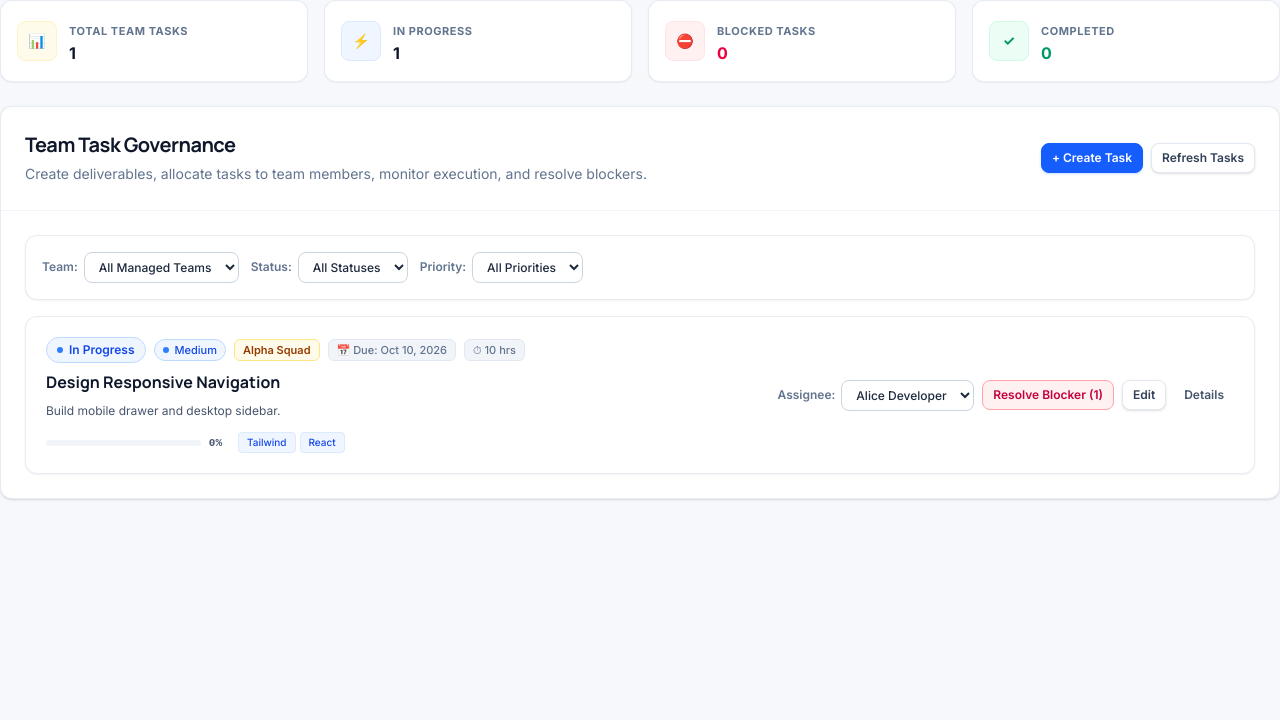
Test: ManagerTaskBoard Component › manager can edit task metadata with pre-populated form and sends PATCH request
This screenshot has width=1280, height=720.
Click the button "Edit" at x=1144, y=395, box [1122,380,1166,410]
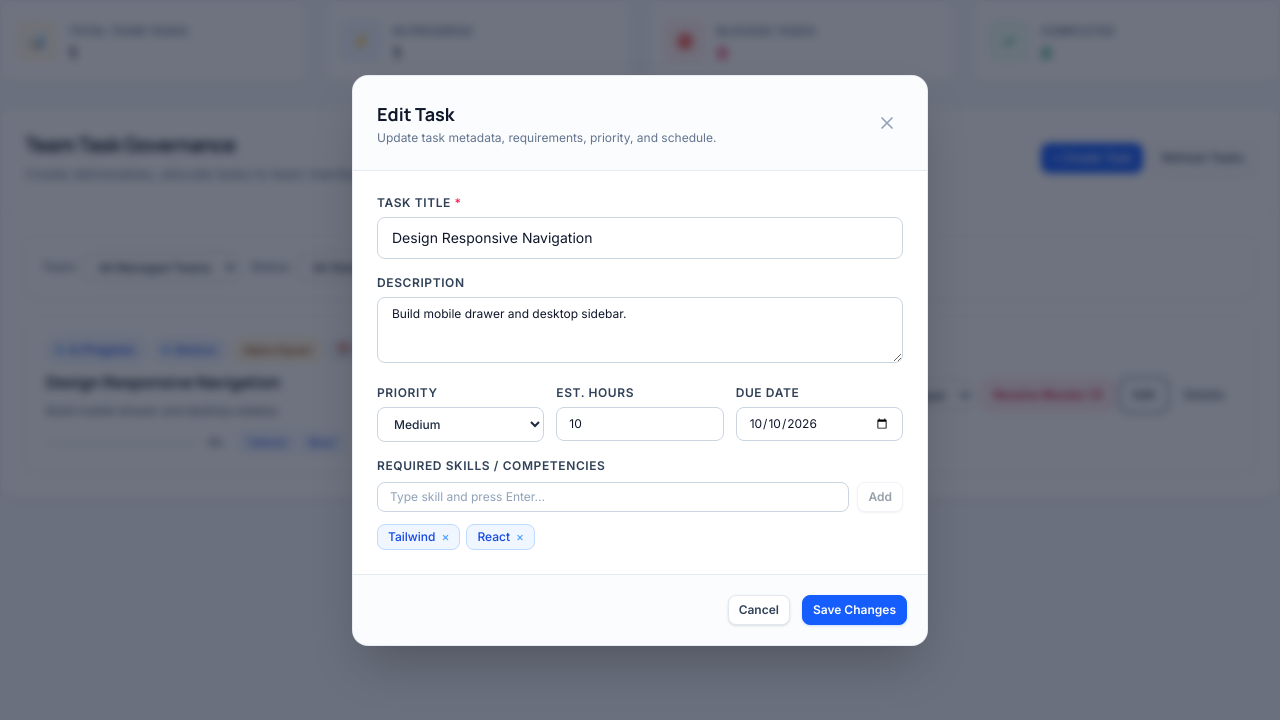
Check: the heading "Edit Task" is shown, box [377,102,454,126]
Check: the field labelled "Task Title *" holds "Design Responsive Navigation"
Note: Modify title and priority inside modal
Replace the text in the field labelled "Task Title *" with "Design Premium Responsive Navigation" at x=640, y=238, box [377,216,903,258]
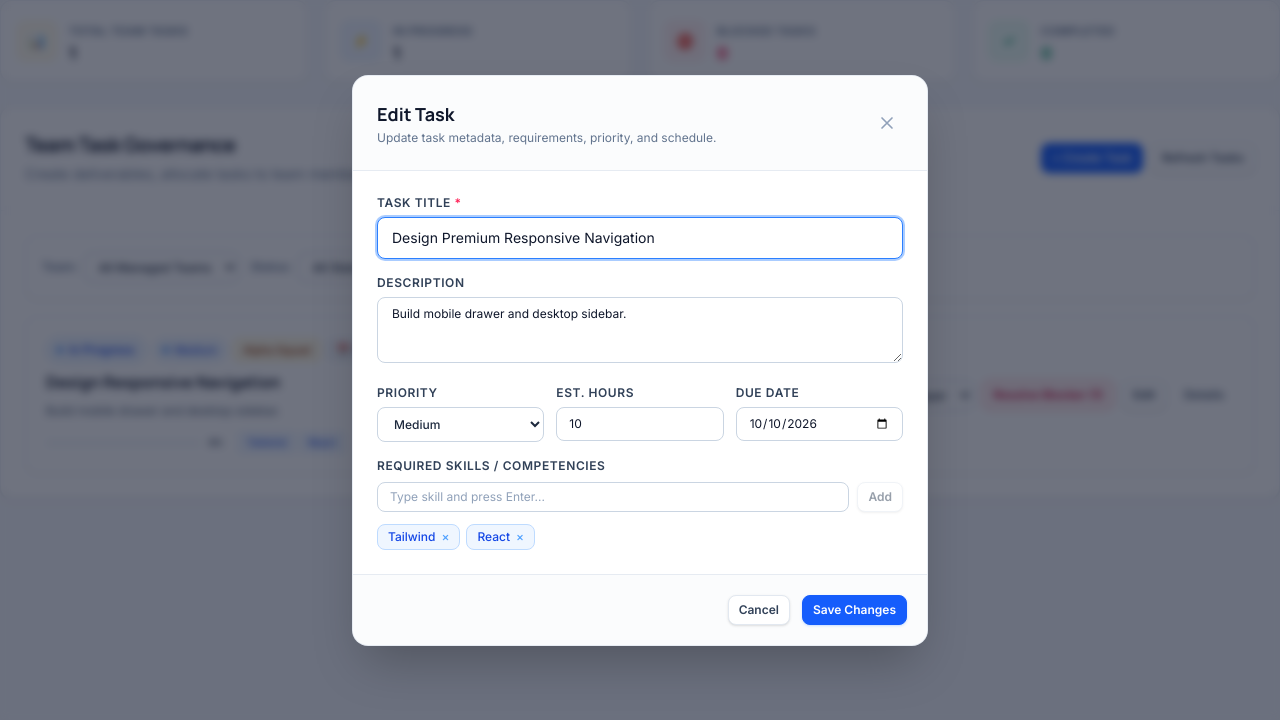
Select "Urgent" in the dropdown with id "task-priority-select" at x=461, y=424, box [377,406,544,442]
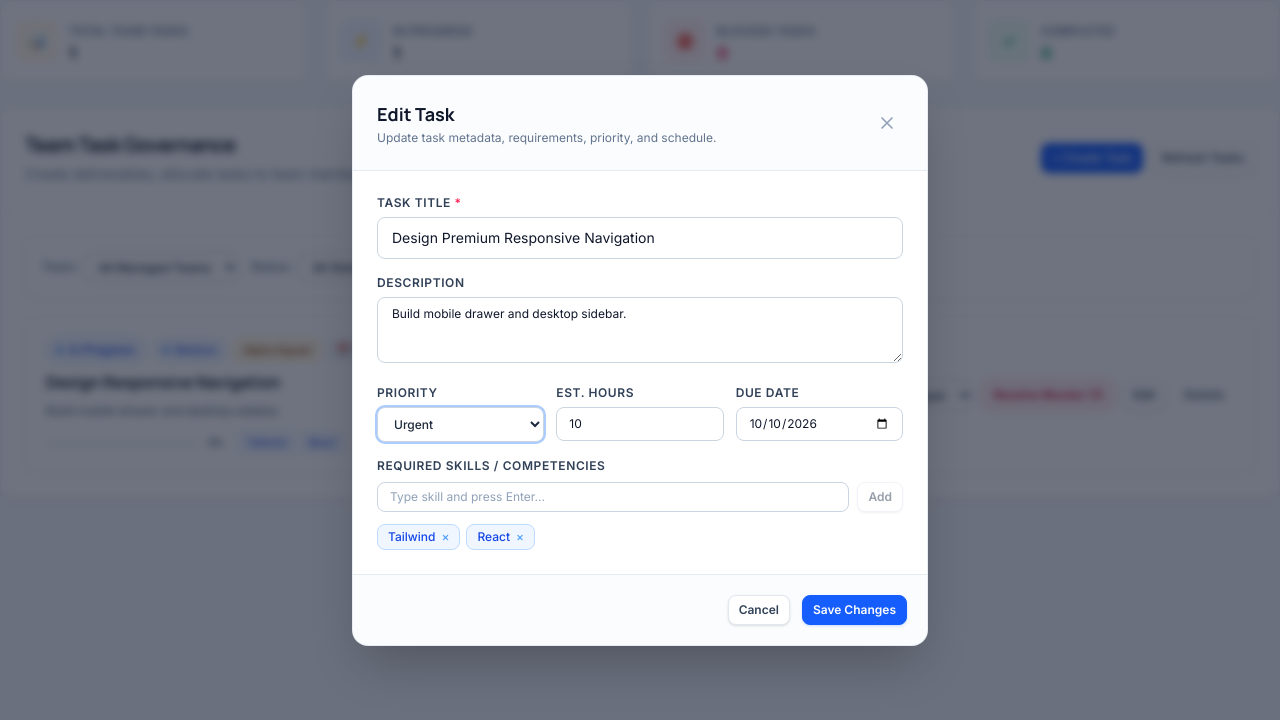
Note: Submit edit form
Click the button "Save Changes" at x=854, y=610, box [802,594,907,624]
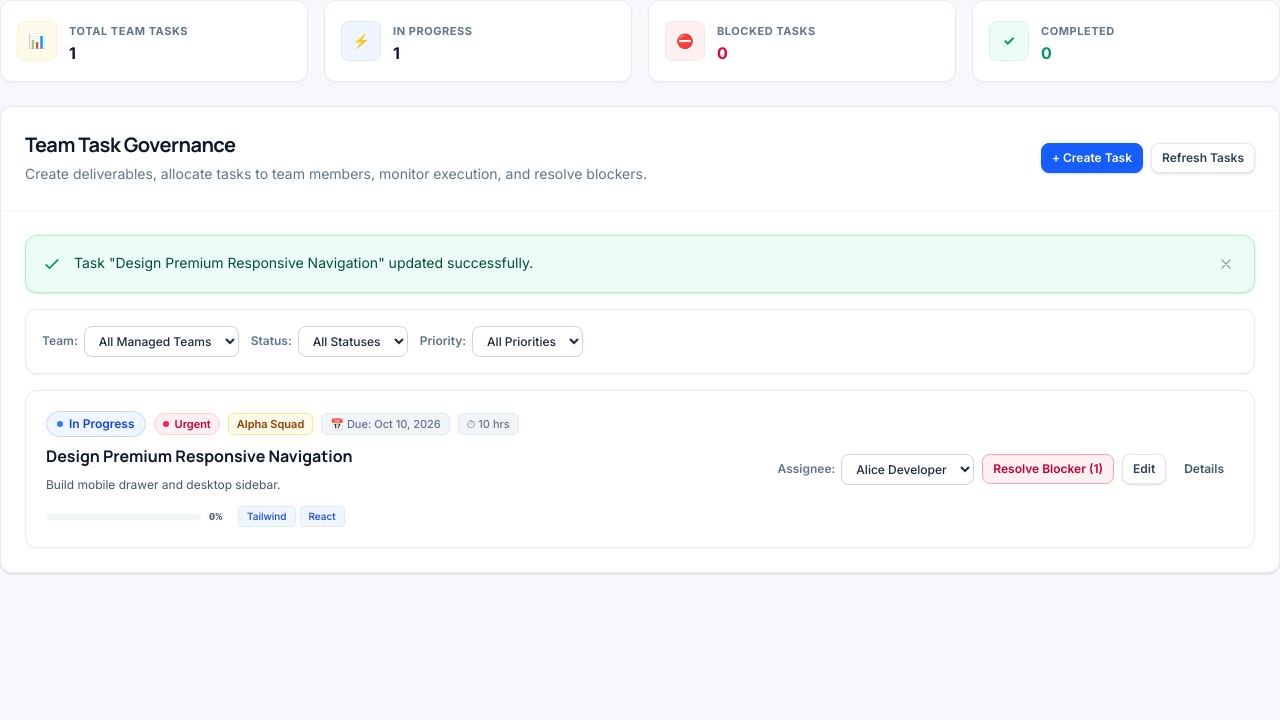
Check: the heading "Design Premium Responsive Navigation" is shown, box [46,445,353,467]
Check: the text "updated successfully" is shown, box [74,254,533,271]
